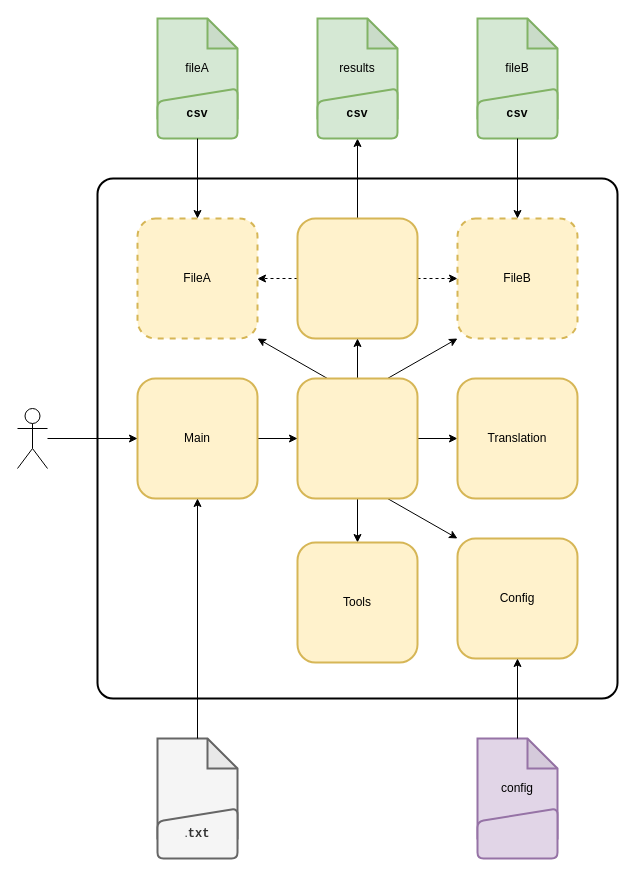
Image size: 636x876. Some labels were removed from this diagram. The shapes that lost their labels are listed below. From the top down, each one's box as (x1, y1, x2, y2) in pixels, then its label:
(296, 217, 418, 339): FileT
(16, 408, 48, 468): User
(296, 377, 418, 499): GUI
(156, 737, 238, 839): credits
(476, 807, 558, 859): . json
